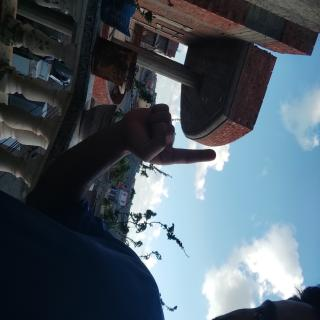BAA: (72, 135, 128, 268)
